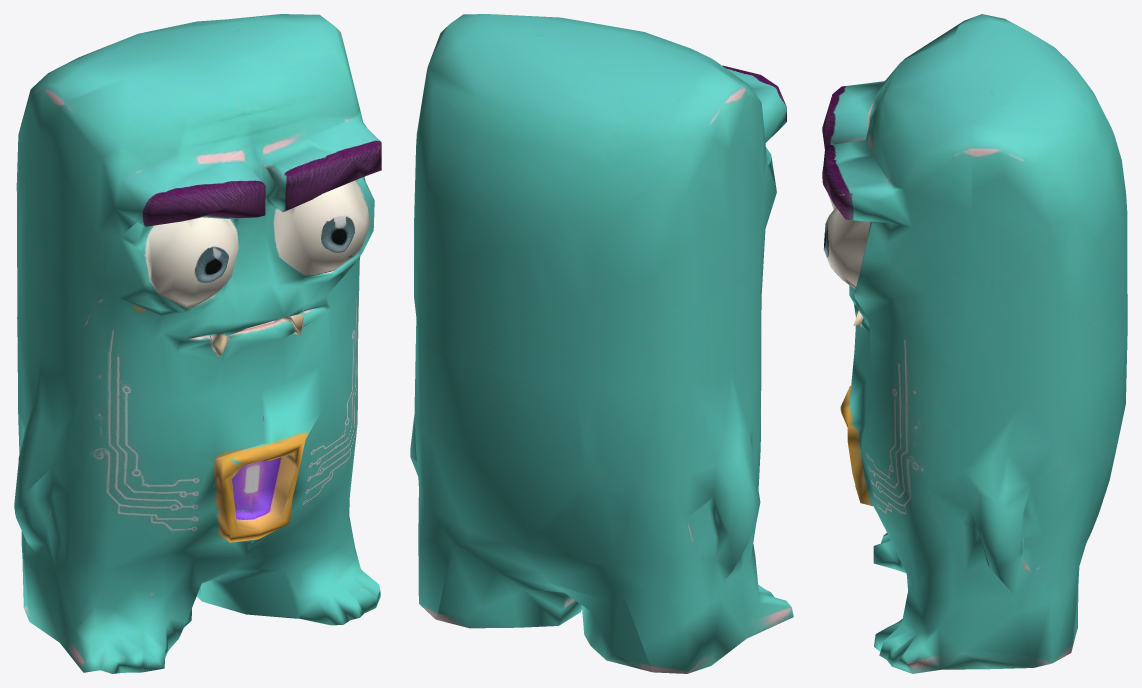
The model's file is blunt.glb.
3 views of the same model, side by side, from view 1: azimuth 30°, elevation 25°; view 2: azimuth 150°, elevation 25°; view 3: azimuth 270°, elevation 25° (orthographic). The views are drawn at different scales.
Bounding box in the file's own units: 1.19 × 1.9 × 0.983.
Materials: 1 (1 with a texture image).
